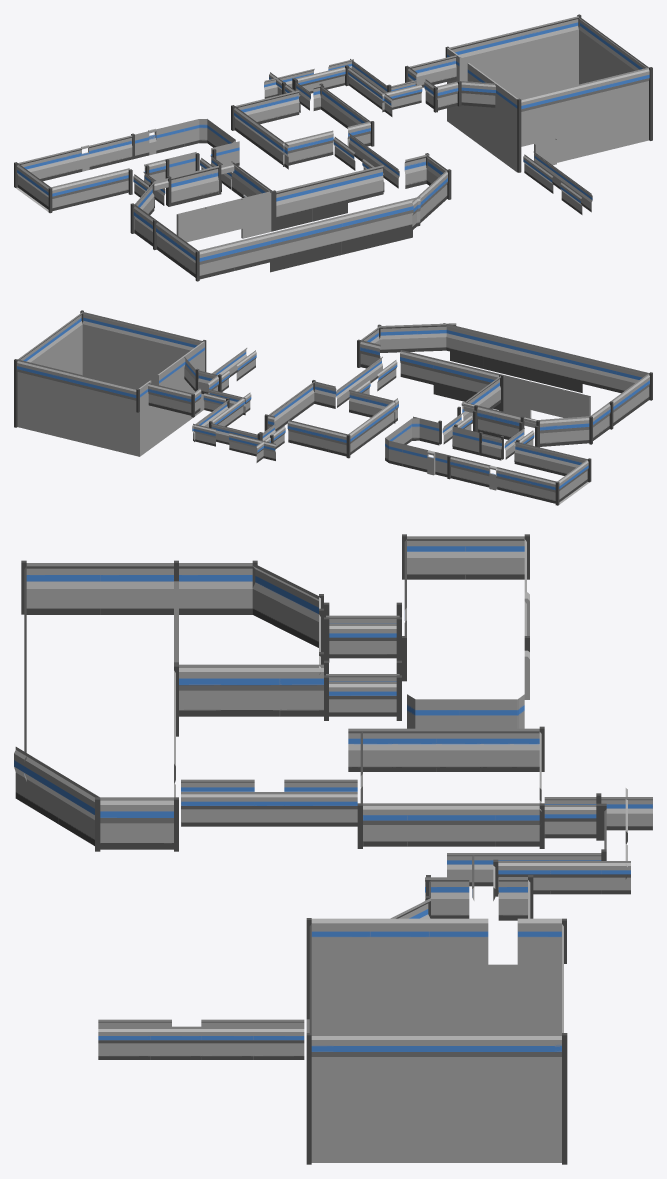
File: CleanedUpWallsV2.fbx
3 views of the same model, one above another, from view 1: azimuth 30°, elevation 25°; view 2: azimuth 150°, elevation 25°; view 3: azimuth 270°, elevation 25° (orthographic). The views are drawn at different scales.
Visible parts, largest first — view 1: CorridoorWall10m.099; view 2: CorridoorWall10m.099; view 3: CorridoorWall10m.099.
Boxes of the visible parts, x1=… form: CorridoorWall10m.099: x1=14, y1=14, x2=652, y2=281; CorridoorWall10m.099: x1=14, y1=310, x2=652, y2=505; CorridoorWall10m.099: x1=14, y1=534, x2=652, y2=1164.
Bounding box in the file's own units: 16103 × 8679 × 2079.
